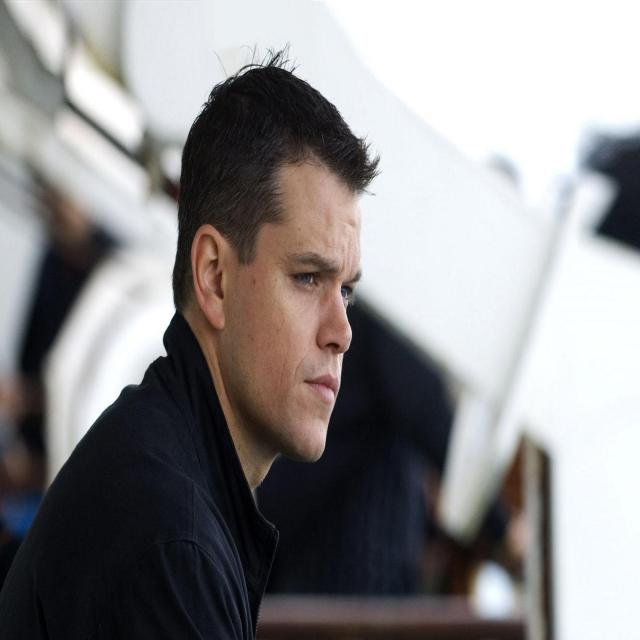no-earmuff: (180, 195, 237, 341)
